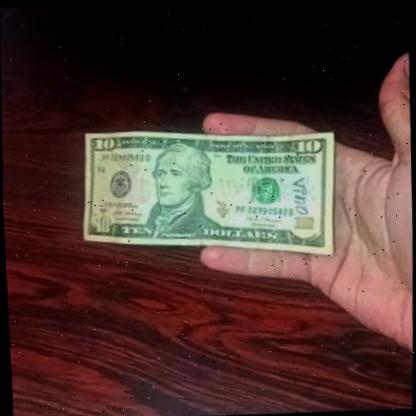ten-front: (78, 116, 344, 266)
